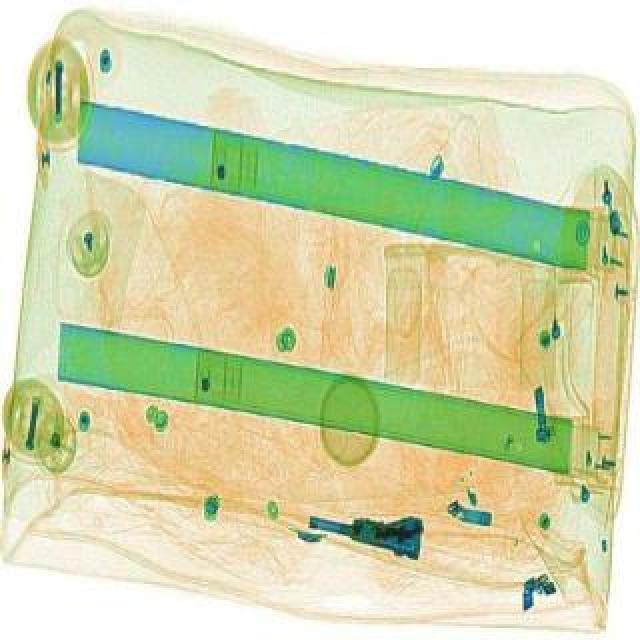gun: (304, 496, 424, 556)
